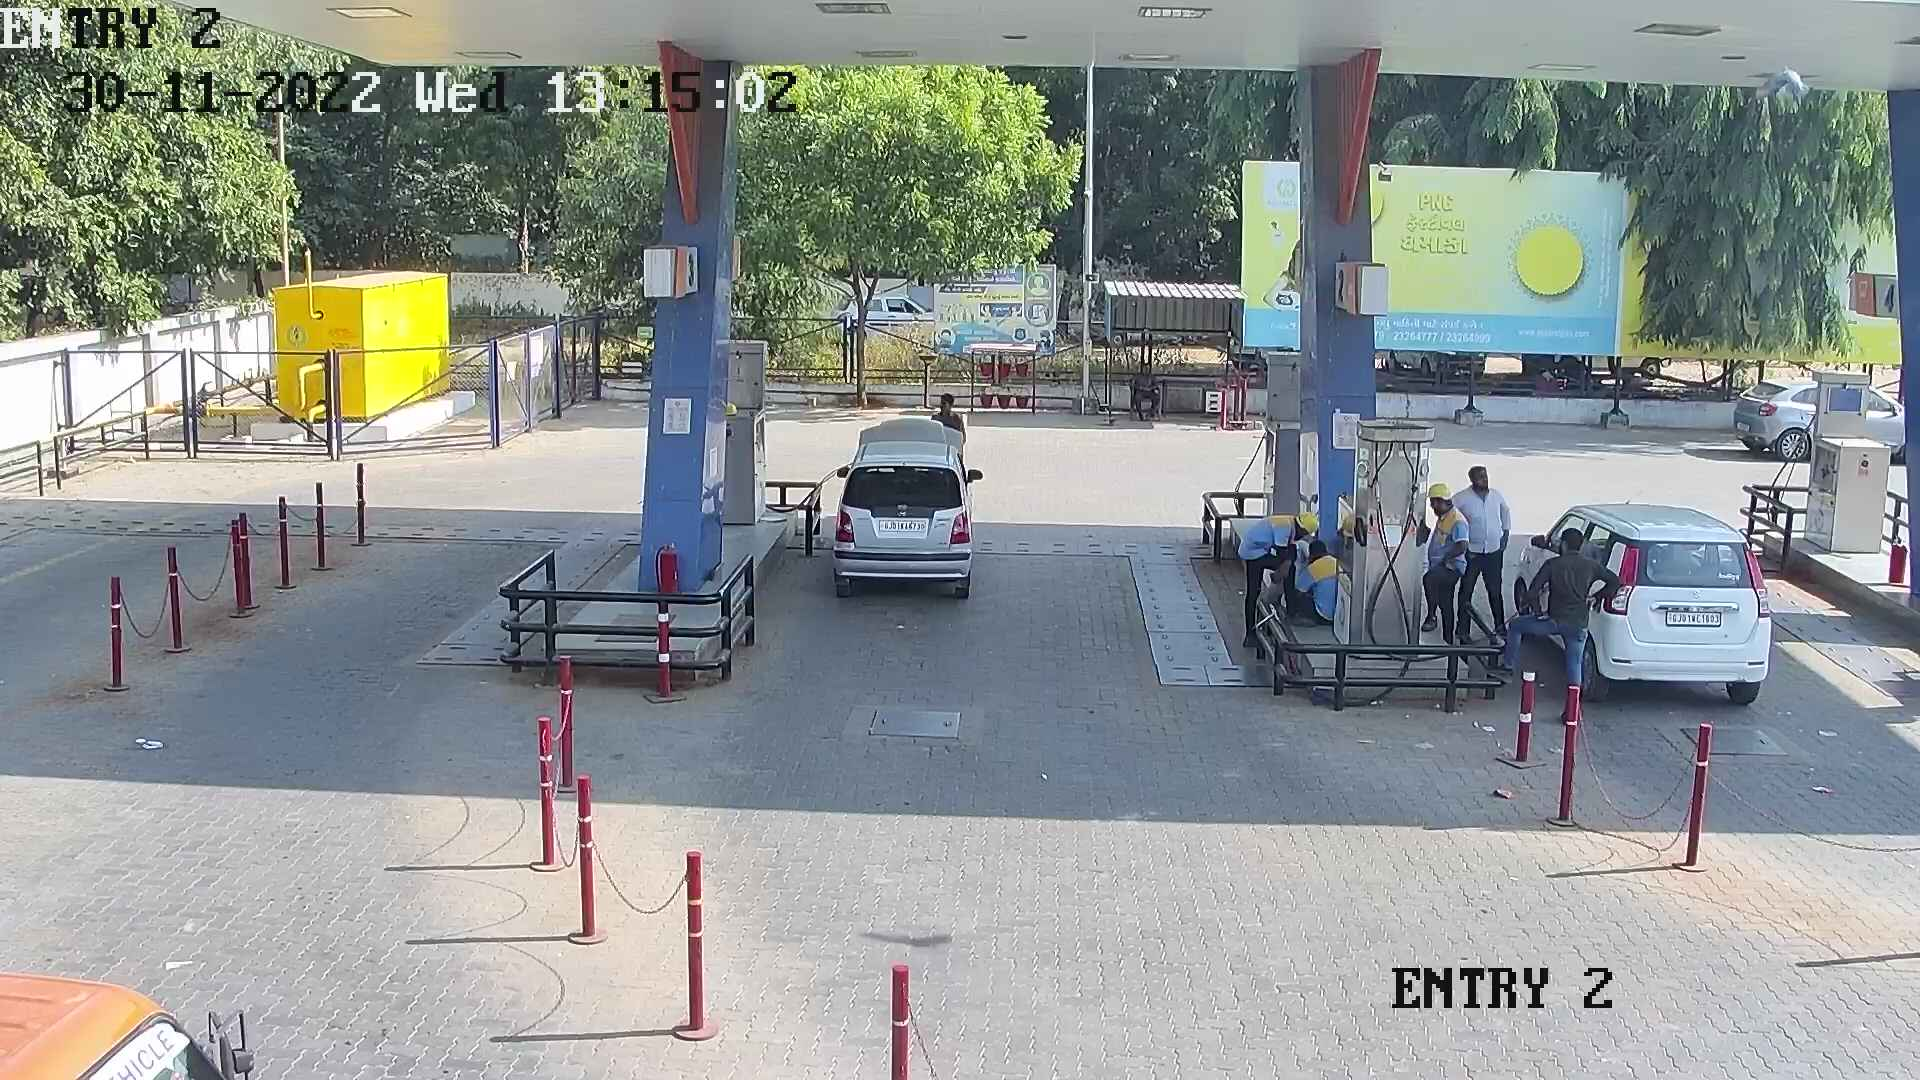Car: (1509, 491, 1778, 705), (816, 398, 994, 611), (1724, 367, 1832, 467)
HMV: (0, 944, 274, 1076)
Others: (1228, 504, 1324, 653), (1414, 477, 1476, 651), (1283, 533, 1346, 622)
